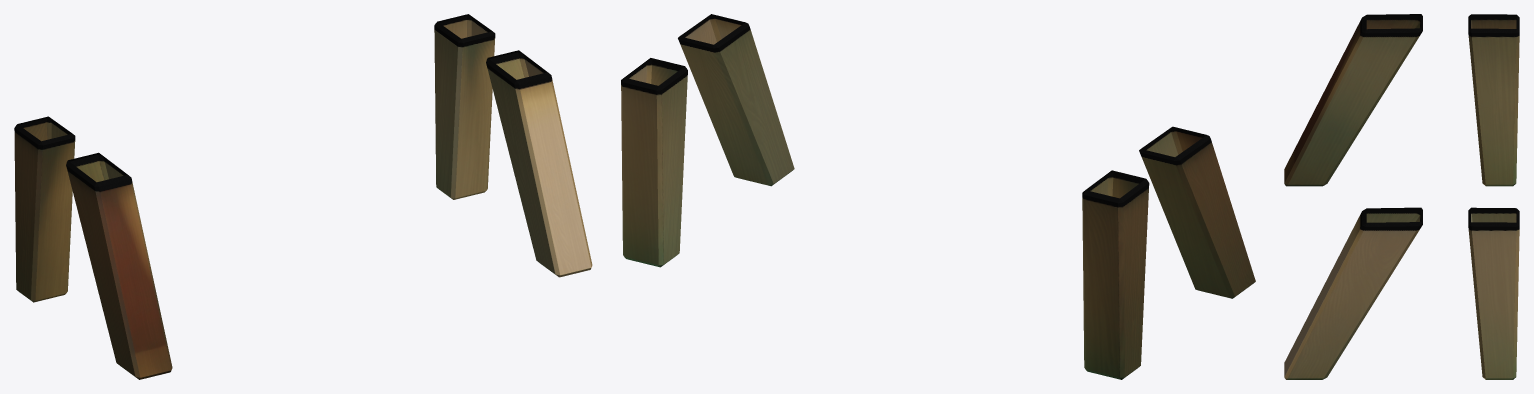
The model's file is LegsDesk_col.gltf.
3 views of the same model, side by side, from view 1: azimuth 30°, elevation 25°; view 2: azimuth 150°, elevation 25°; view 3: azimuth 270°, elevation 25° (orthographic). The views are drawn at different scales.
Parts seen in each view (by area): view 1: DeskLegs.001; view 2: DeskLegs.001; view 3: DeskLegs.001.
Part boxes in pixels (<box>): DeskLegs.001: <box>14,14,592,379</box>; DeskLegs.001: <box>621,14,1255,379</box>; DeskLegs.001: <box>1284,14,1519,379</box>.
Size of the model in its own units: 4.64 by 1.62 by 2.19.
Materials: 1 (1 with a texture image).
